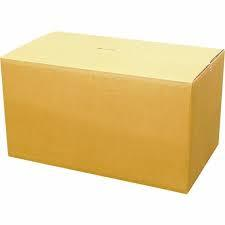cardboard: (0, 31, 224, 193)
